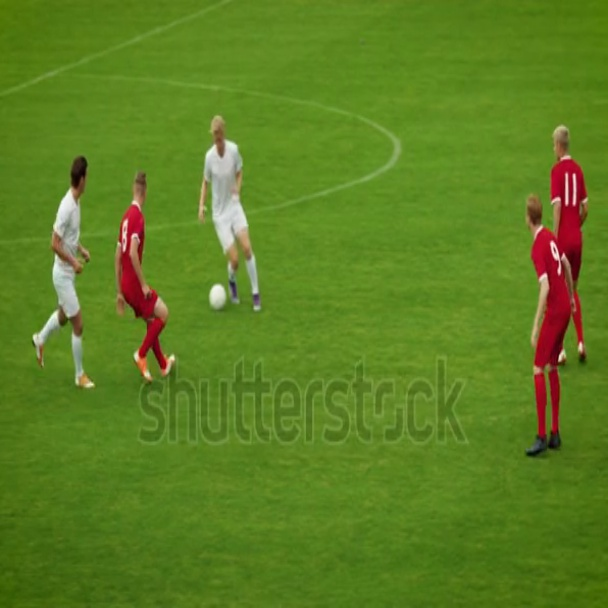ball: (211, 281, 229, 317)
